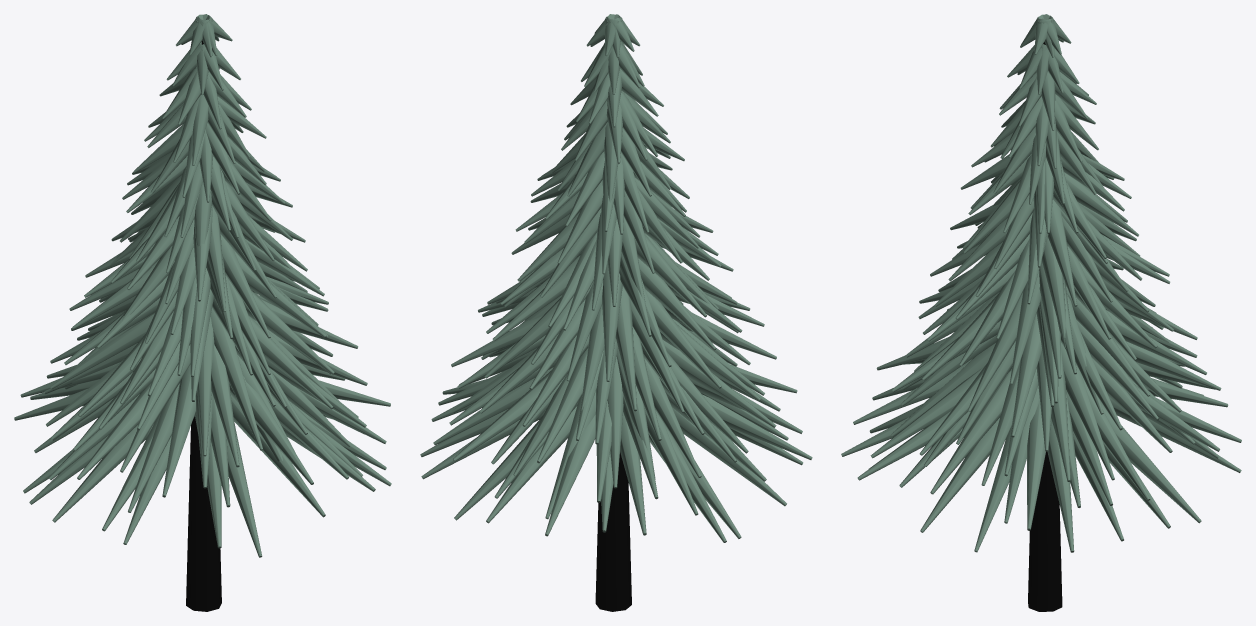
The model's file is pine-tree-draco.gltf.
The picture shows the model from 3 angles, left to right: view 1: azimuth 30°, elevation 25°; view 2: azimuth 150°, elevation 25°; view 3: azimuth 270°, elevation 25°; orthographic projection.
Bounding box in the file's own units: 21.48 × 35.43 × 21.87.
